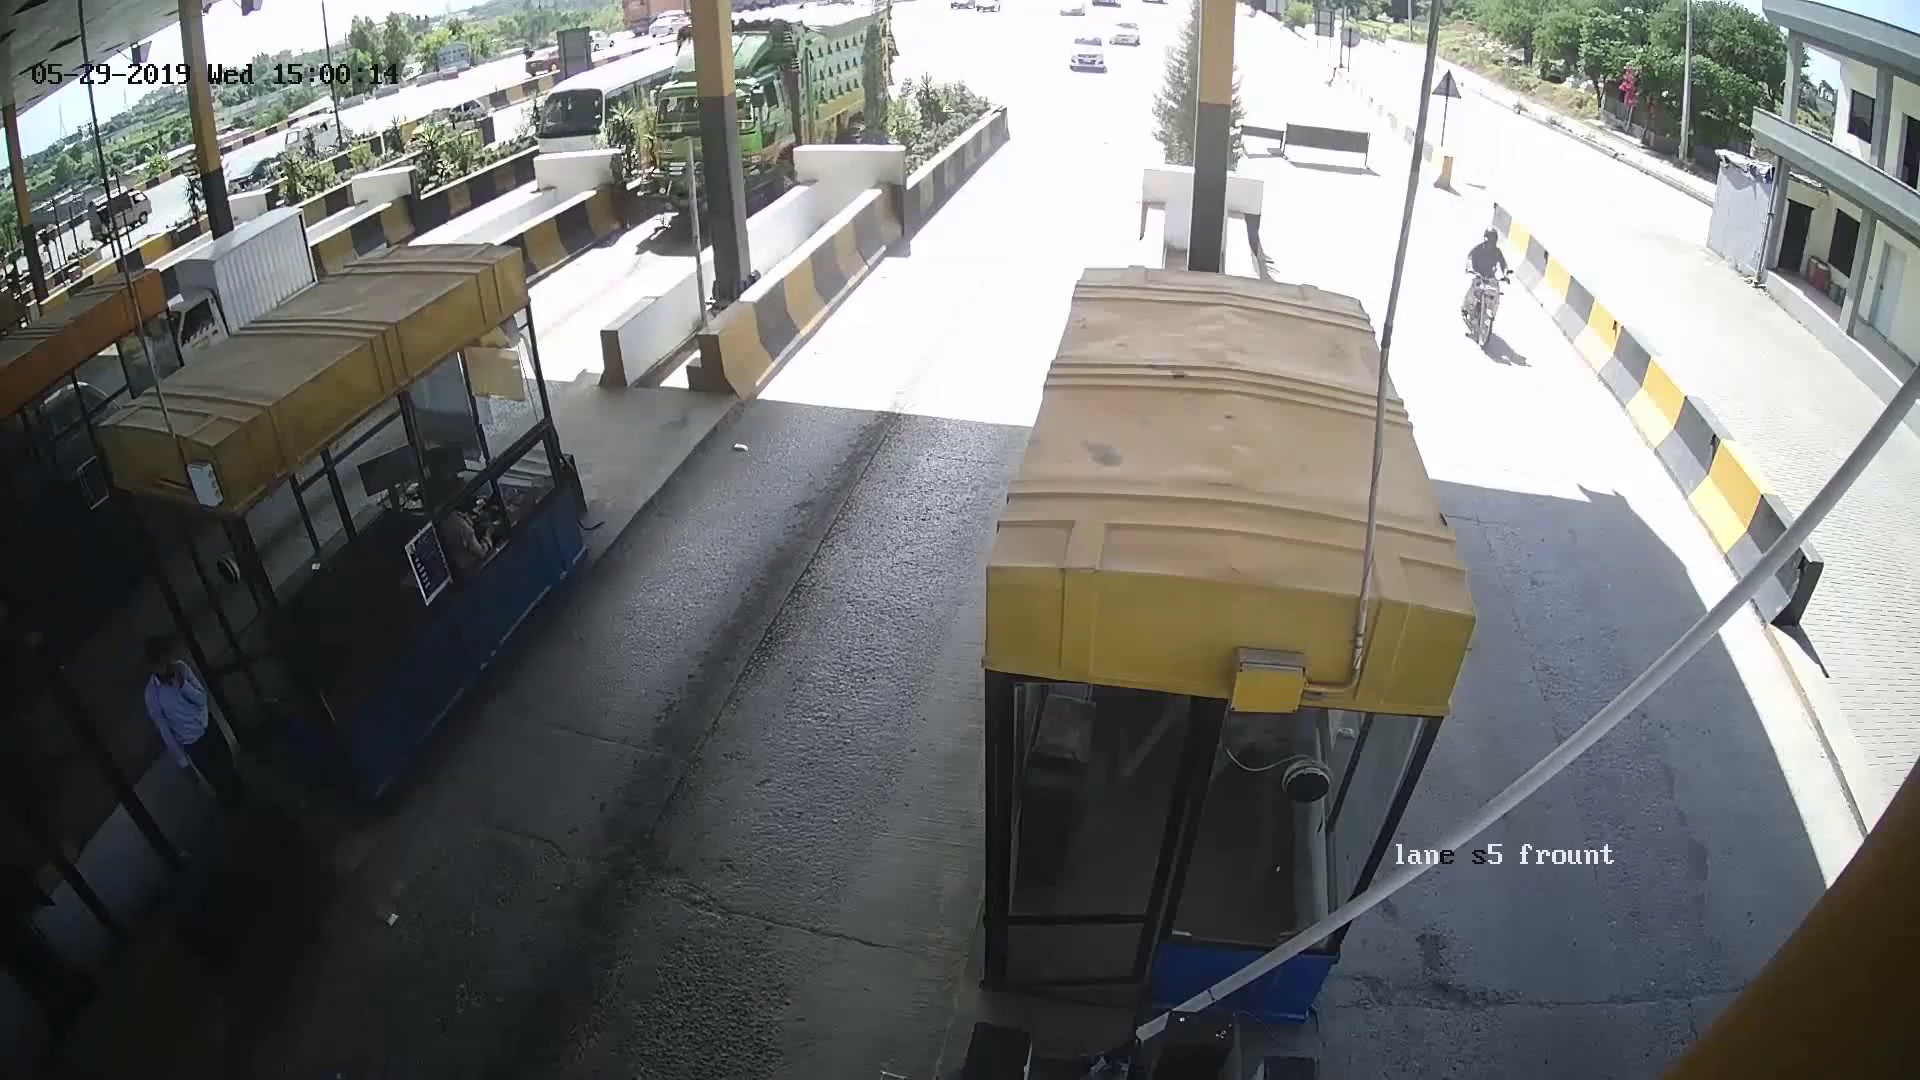car: (1048, 42, 1125, 94)
